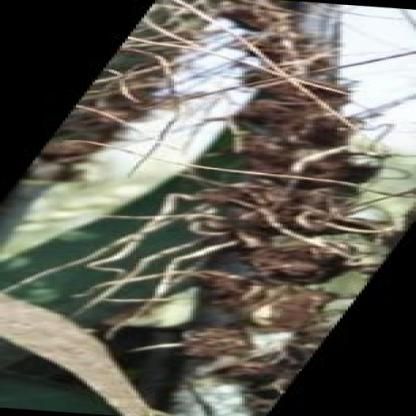Wheat Smut: (195, 191, 343, 226), (252, 138, 362, 182), (252, 92, 336, 128), (263, 40, 321, 86), (255, 288, 322, 319), (268, 245, 328, 277), (209, 4, 281, 29), (185, 332, 260, 352), (187, 272, 240, 293), (271, 333, 308, 358), (46, 138, 88, 159), (73, 111, 112, 131), (225, 369, 288, 379), (40, 160, 67, 178), (258, 389, 288, 403)
